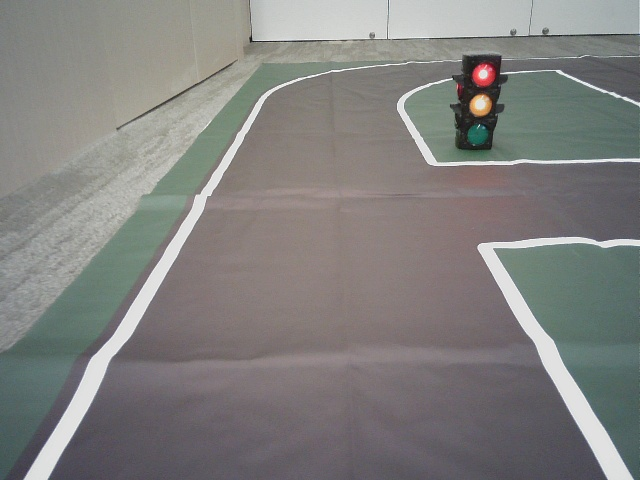red: (462, 58, 494, 145)
